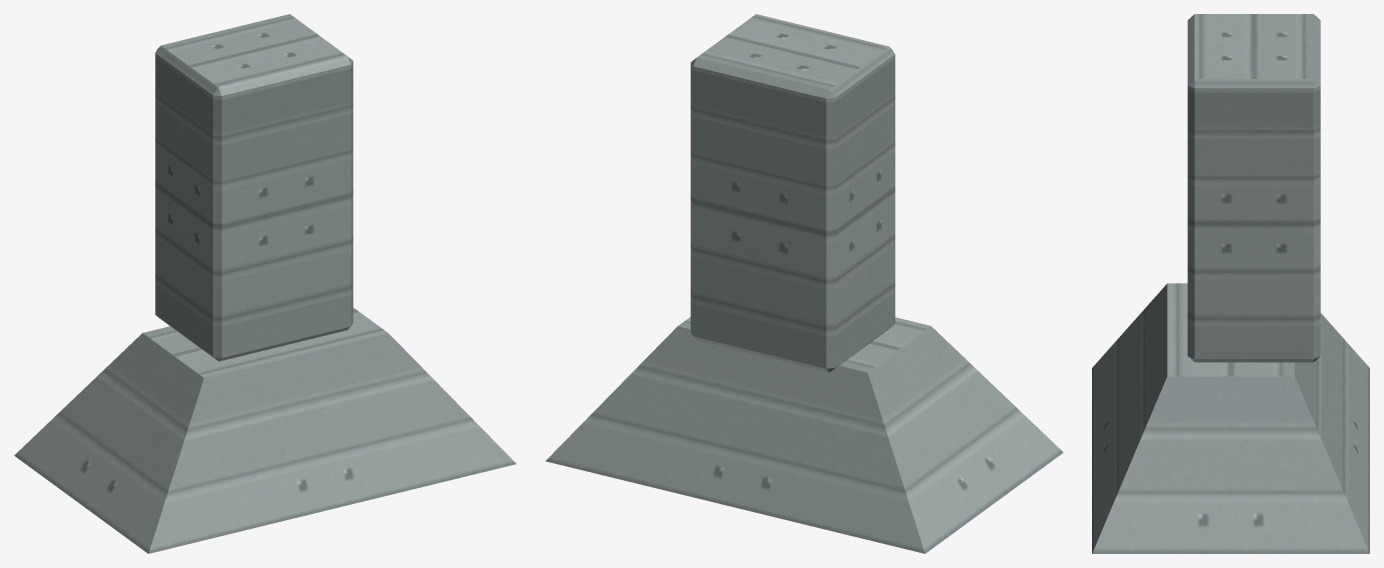
Rendered from MD_52_CookerHood.fbx.
3 renders of one model, left to right at view 1: azimuth 30°, elevation 25°; view 2: azimuth 150°, elevation 25°; view 3: azimuth 270°, elevation 25°, orthographic. The views are drawn at different scales.
Visible parts, largest first — view 1: MD_52_CookerHood_flared_extract_hood, MD_52_CookerHood_chimney; view 2: MD_52_CookerHood_flared_extract_hood, MD_52_CookerHood_chimney; view 3: MD_52_CookerHood_flared_extract_hood, MD_52_CookerHood_chimney.
Part boxes in pixels (x1,y1,x2,y2): MD_52_CookerHood_flared_extract_hood: (14,307,516,553); MD_52_CookerHood_chimney: (155,14,353,361); MD_52_CookerHood_flared_extract_hood: (545,317,1063,553); MD_52_CookerHood_chimney: (690,14,895,372); MD_52_CookerHood_flared_extract_hood: (1092,283,1369,553); MD_52_CookerHood_chimney: (1187,14,1320,362).
Bounding box in the file's own units: 0.76 × 0.803 × 0.48.
3 materials, 3 textured.
